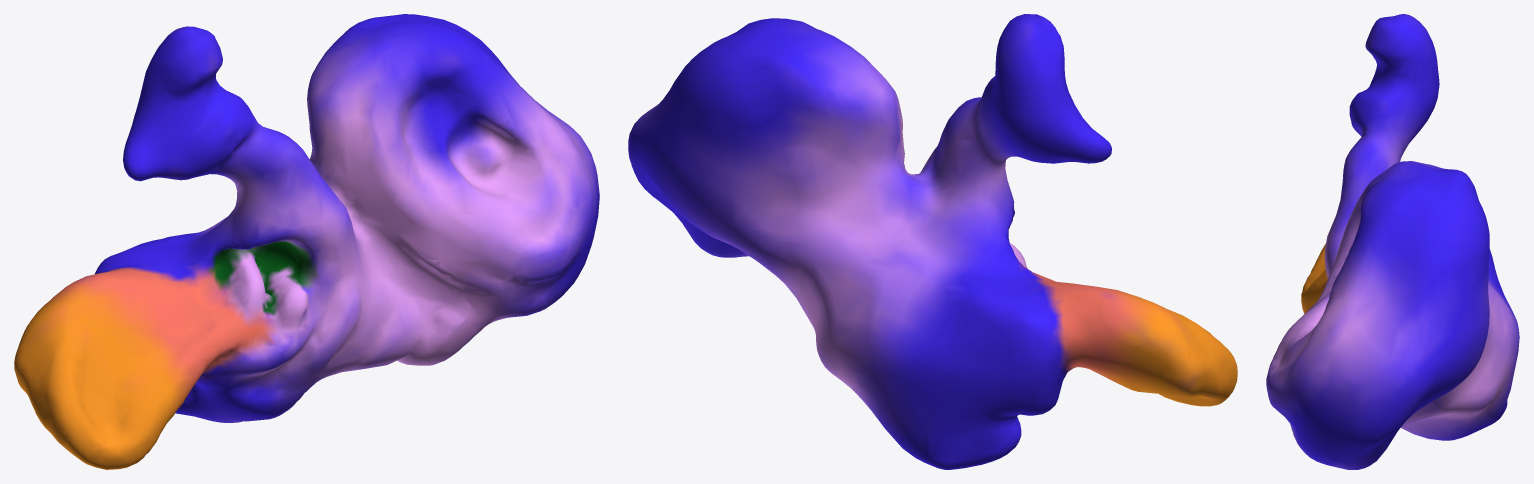
3 renders of one model, left to right at view 1: azimuth 30°, elevation 25°; view 2: azimuth 150°, elevation 25°; view 3: azimuth 270°, elevation 25°, orthographic. The views are drawn at different scales.
Visible parts, largest first — view 1: Group29860; view 2: Group29860; view 3: Group29860.
Boxes of the visible parts, x1,y1,x2,y2 form: Group29860: (14,14,599,469); Group29860: (628,14,1237,469); Group29860: (1266,14,1519,469).
Size of the model in its own units: 0.00807 by 0.00575 by 0.00336.
1 material, 1 textured.
